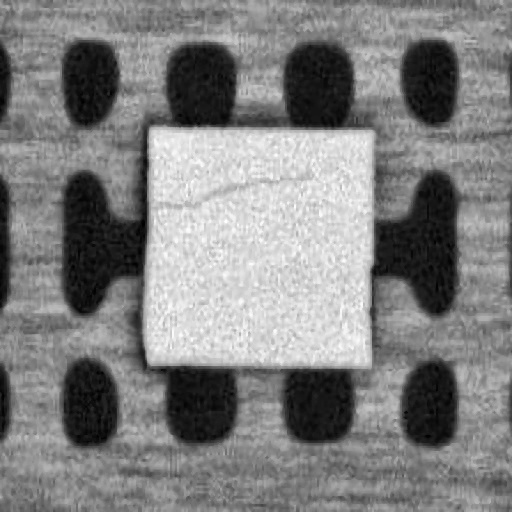DIE_CRACK: (149, 172, 308, 210)
